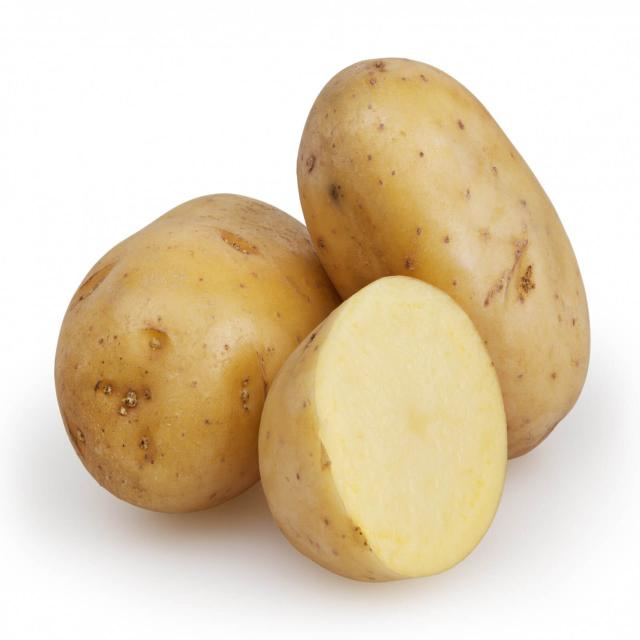potato: (303, 54, 595, 460), (55, 192, 334, 508)
